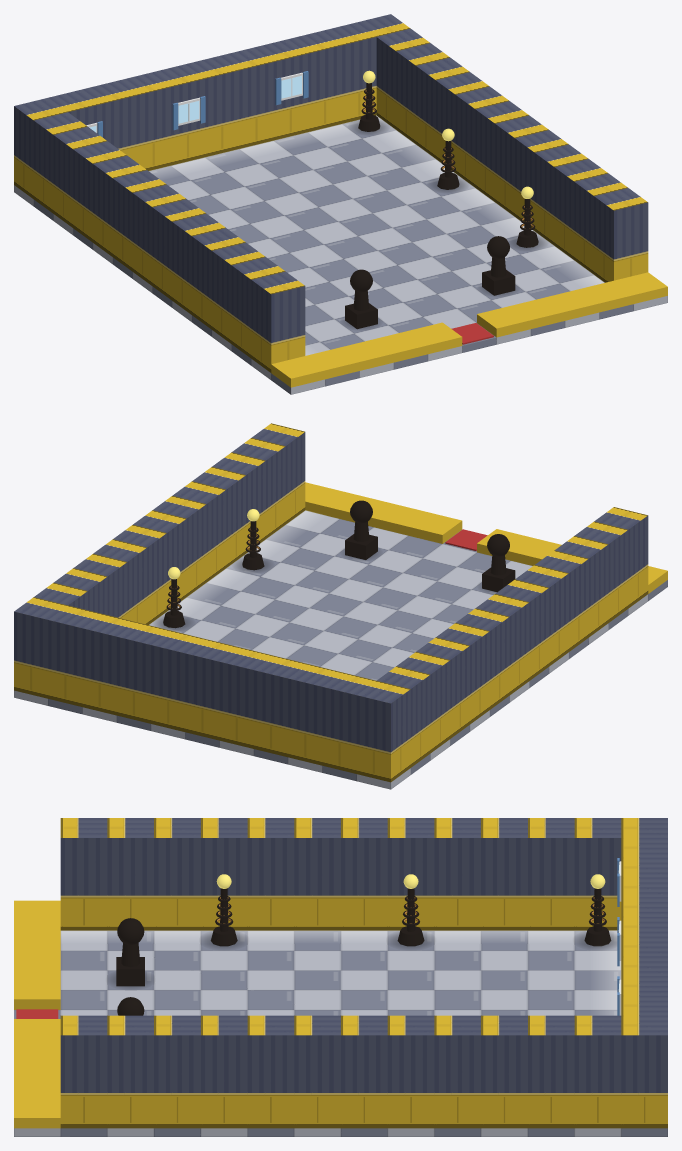
File: ginasio4.glb
The picture shows the model from 3 angles, top to bottom: view 1: azimuth 30°, elevation 25°; view 2: azimuth 150°, elevation 25°; view 3: azimuth 270°, elevation 25°; orthographic projection. The views are drawn at different scales.
Visible parts, largest first — view 1: malha__semsombra (×46), malha__contorno (×2); view 2: malha__semsombra (×42), malha__contorno (×2); view 3: malha__semsombra (×46), malha__contorno (×2).
Part boxes in pixels (<box>): malha__semsombra (×46): <box>14,14,667,394</box>; malha__contorno (×2): <box>345,269,515,329</box>; malha__semsombra (×42): <box>14,423,667,789</box>; malha__contorno (×2): <box>345,534,515,592</box>; malha__semsombra (×46): <box>14,818,667,1136</box>; malha__contorno (×2): <box>116,918,144,986</box>.
Bounding box in the file's own units: 11 × 2.4 × 14.
Materials: 31 (11 with a texture image).
